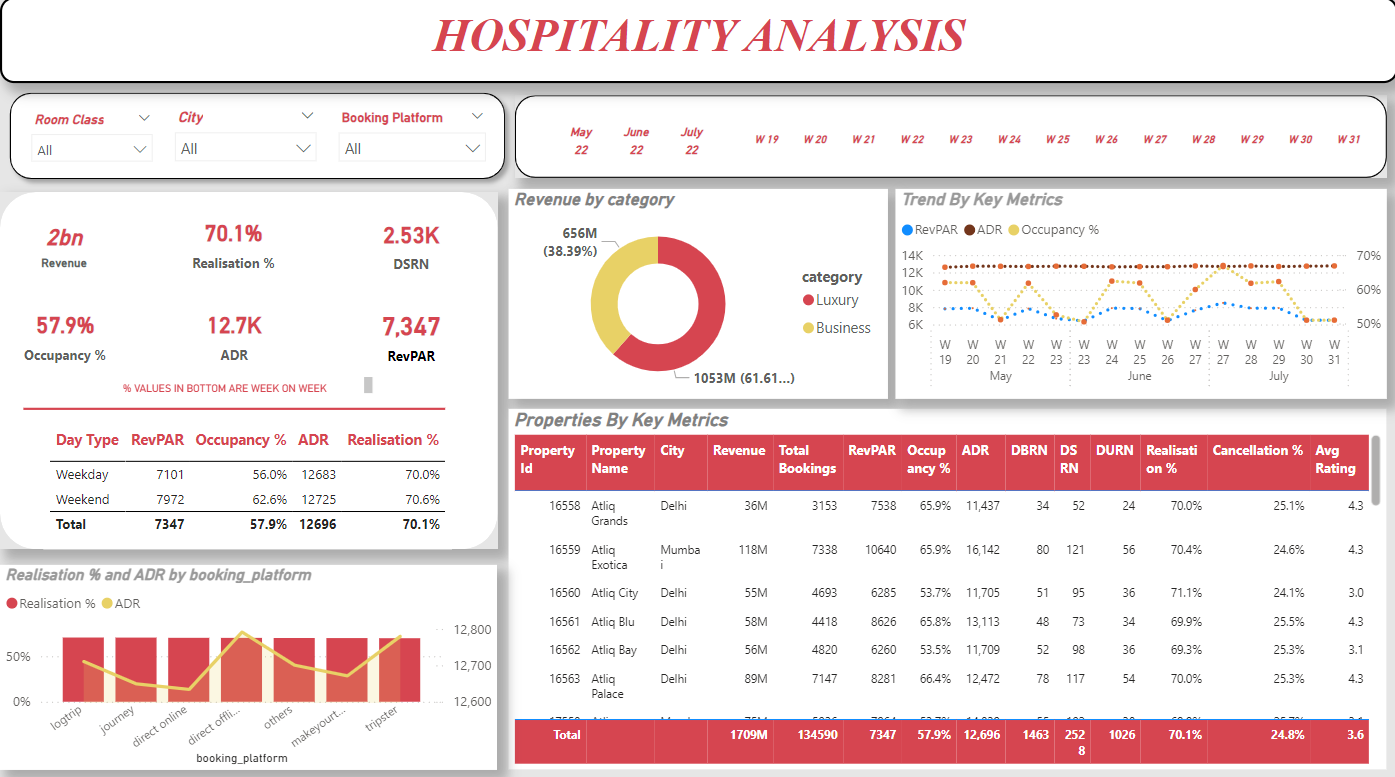

The page's visual inventory and layout, read from the dashboard file:
{"tool":"powerbi","page":{"name":"Page 3","canvas":[1280,720],"ordinal":2},"visuals":[{"type":"shape","box":[0,178.6,455.7,327.1],"z":0},{"type":"shape","box":[471.4,90,798.6,75.7],"z":1000},{"type":"shape","box":[0,78.6,471.4,97.1],"z":2000},{"type":"donutChart","fields":{"Y":["key_measures.Revenue"],"Category":["dim_hotels.category"]},"box":[466.2,176.2,347.5,192.5],"z":3000},{"type":"tableEx","title":"Properties By Key Metrics ","fields":{"Values":["dim_hotels.property_id","dim_hotels.property_name","dim_hotels.city","key_measures.Revenue","key_measures.Total Bookings","key_measures.RevPAR","key_measures.Occupancy %","key_measures.ADR","key_measures.DBRN","key_measures.DSRN","key_measures.DURN","key_measures.Realisation %"]},"box":[466.2,377.5,803.8,330],"z":4000},{"type":"lineStackedColumnComboChart","fields":{"Y":["key_measures.Realisation %"],"Y2":["key_measures.ADR"],"Category":["fact_bookings.booking_platform"]},"box":[0,520,455,187.5],"z":5000},{"type":"lineChart","title":"Trend By Key Metrics","fields":{"Y":["key_measures.RevPAR","key_measures.ADR"],"Category":["dim_date.mmm yy.Variation.Date Hierarchy.Month","dim_date.week no"],"Y2":["key_measures.Occupancy %"]},"box":[820,176.2,450,192.5],"z":6000},{"type":"tableEx","fields":{"Values":["dim_date.day type","key_measures.RevPAR","key_measures.Occupancy %","key_measures.ADR","key_measures.Realisation %"]},"box":[40,388.8,373.8,117.5],"z":7000},{"type":"card","fields":{"Values":["key_measures.RevPAR"]},"box":[330,274.3,92.9,68.6],"z":8000},{"type":"card","fields":{"Values":["key_measures.Revenue"]},"box":[18.6,191.4,80,68.6],"z":9000},{"type":"card","fields":{"Values":["key_measures.DSRN"]},"box":[327.1,191.4,98.6,68.6],"z":10000},{"type":"card","fields":{"Values":["key_measures.ADR"]},"box":[162.9,274.3,102.9,68.6],"z":11000},{"type":"card","fields":{"Values":["key_measures.Realisation %"]},"box":[167.1,191.4,92.9,65.7],"z":12000},{"type":"card","fields":{"Values":["key_measures.Occupancy %"]},"box":[11.4,274.3,95.7,68.6],"z":13000},{"type":"slicer","fields":{"Values":["dim_hotels.city"]},"box":[150,97.1,150,61.4],"z":14000},{"type":"slicer","fields":{"Values":["dim_rooms.room_class"]},"box":[18.6,100,131.4,54.3],"z":15000},{"type":"slicer","fields":{"Values":["fact_bookings.booking_platform"]},"box":[300,98.1,155,57.5],"z":16000},{"type":"textbox","box":[0,0,1280,78.8],"z":17000},{"type":"slicer","fields":{"Values":["dim_date.mmm yy"]},"box":[481.4,104.3,200,47.1],"z":18000},{"type":"slicer","fields":{"Values":["dim_date.week no"]},"box":[654.3,110,625.7,41.4],"z":19000},{"type":"shape","box":[21.2,307.5,386.2,140],"z":20000},{"type":"textbox","box":[107.5,342.5,238.8,30],"z":21000}]}

Visuals, with their boxes in screenshot pixels (x1, y1, x2, y2), scaled from the page's 1280x720 canvas onto the 1395x777 screenshot:
shape: (left=0, top=193, right=497, bottom=546)
shape: (left=514, top=97, right=1384, bottom=179)
shape: (left=0, top=85, right=514, bottom=190)
donutChart - key_measures.Revenue x dim_hotels.category: (left=508, top=190, right=887, bottom=398)
"Properties By Key Metrics " tableEx: (left=508, top=407, right=1384, bottom=764)
lineStackedColumnComboChart - key_measures.Realisation % x key_measures.ADR: (left=0, top=561, right=496, bottom=764)
"Trend By Key Metrics" lineChart: (left=894, top=190, right=1384, bottom=398)
tableEx - dim_date.day type x key_measures.RevPAR: (left=44, top=420, right=451, bottom=546)
card - key_measures.RevPAR: (left=360, top=296, right=461, bottom=370)
card - key_measures.Revenue: (left=20, top=207, right=107, bottom=281)
card - key_measures.DSRN: (left=356, top=207, right=464, bottom=281)
card - key_measures.ADR: (left=178, top=296, right=290, bottom=370)
card - key_measures.Realisation %: (left=182, top=207, right=283, bottom=277)
card - key_measures.Occupancy %: (left=12, top=296, right=117, bottom=370)
slicer - dim_hotels.city: (left=163, top=105, right=327, bottom=171)
slicer - dim_rooms.room_class: (left=20, top=108, right=163, bottom=167)
slicer - fact_bookings.booking_platform: (left=327, top=106, right=496, bottom=168)
textbox: (left=0, top=0, right=1394, bottom=85)
slicer - dim_date.mmm yy: (left=525, top=113, right=743, bottom=163)
slicer - dim_date.week no: (left=713, top=119, right=1394, bottom=163)
shape: (left=23, top=332, right=444, bottom=483)
textbox: (left=117, top=370, right=377, bottom=402)
